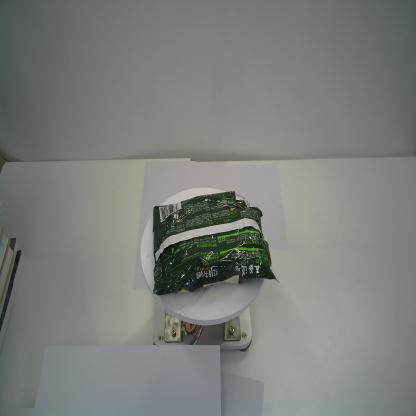Instant Noodles: (148, 188, 281, 298)
